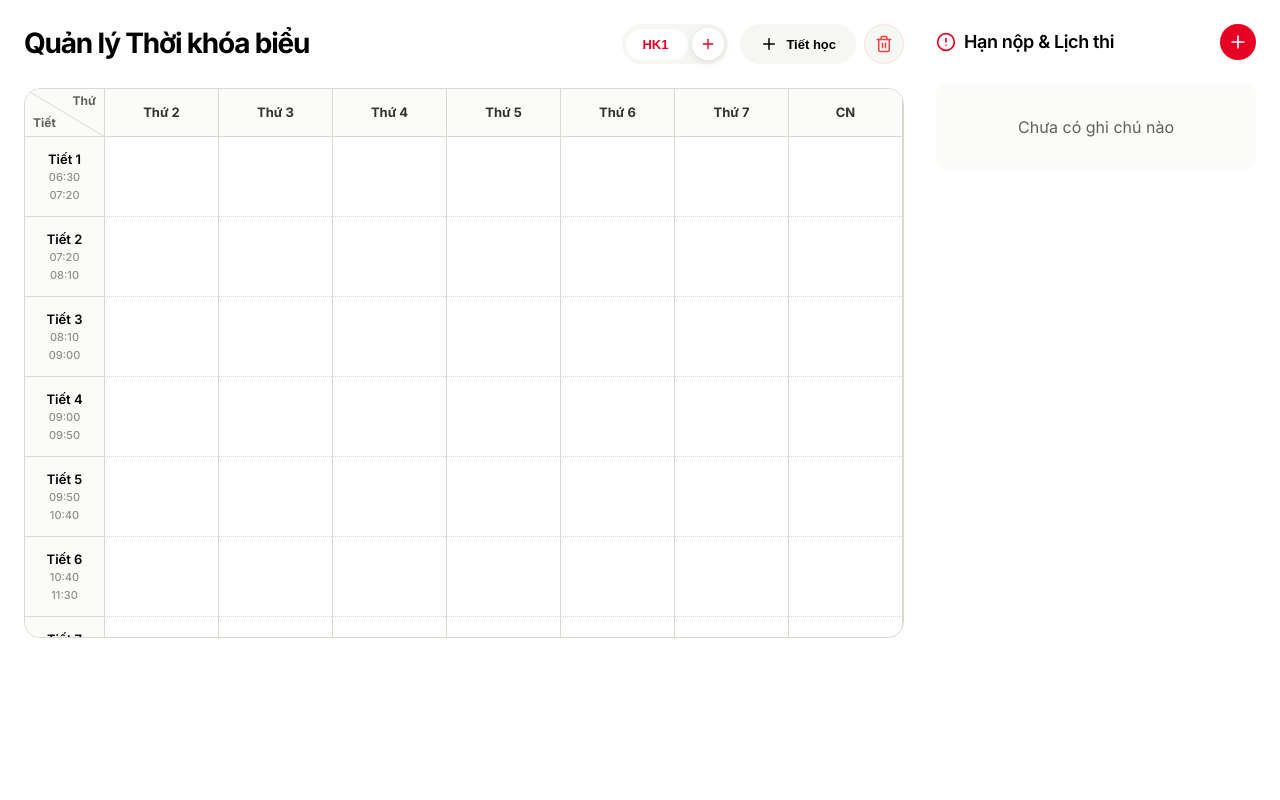
Test case: Timetable — entry & schedule CRUD › open_entry_modal_via_header_Tiết_học_and_Hủy_closes
Expected: the heading "Quản lý Thời khóa biểu" is shown, [24,27,309,61]
Click the button "Tiết học" at (798, 44), box [740,24,856,64]
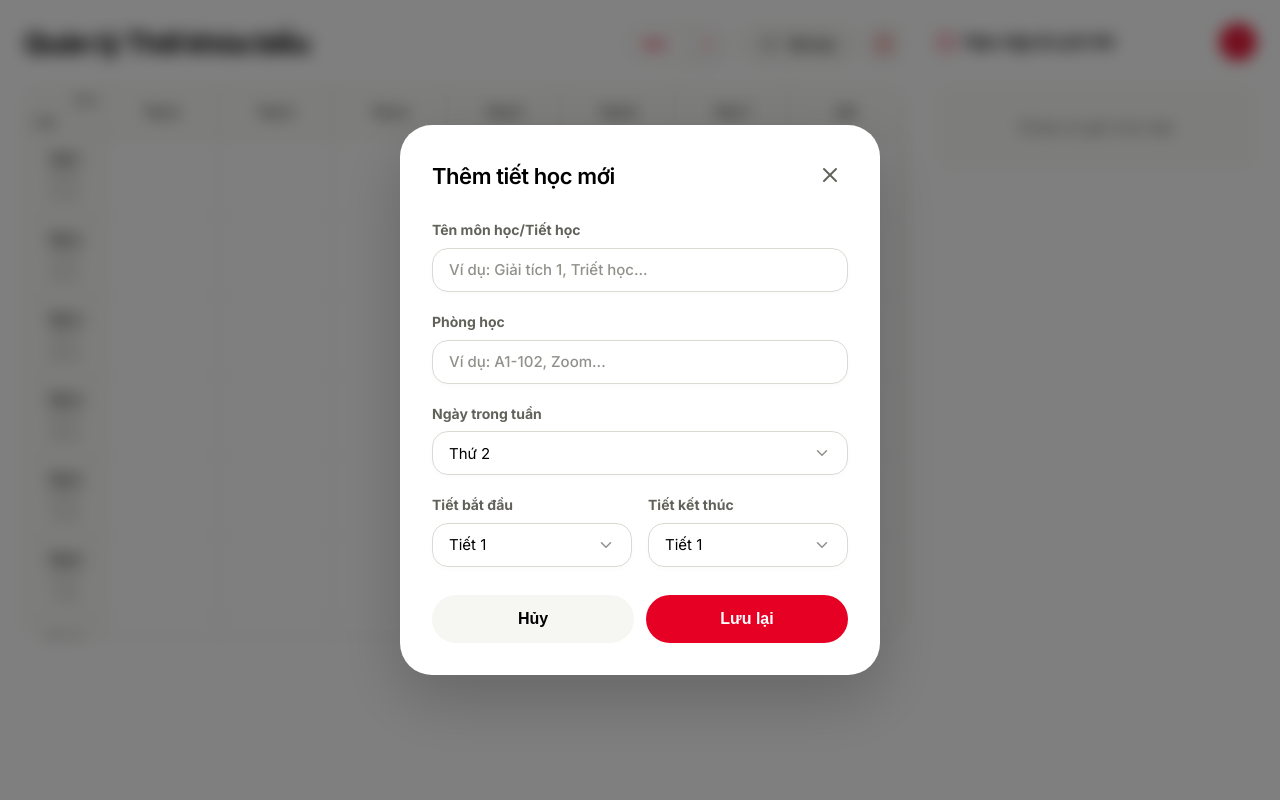
Expected: the heading "Thêm tiết học mới" is shown, [432,163,615,191]
Click the button "Hủy" at (533, 619), box [432,595,634,643]
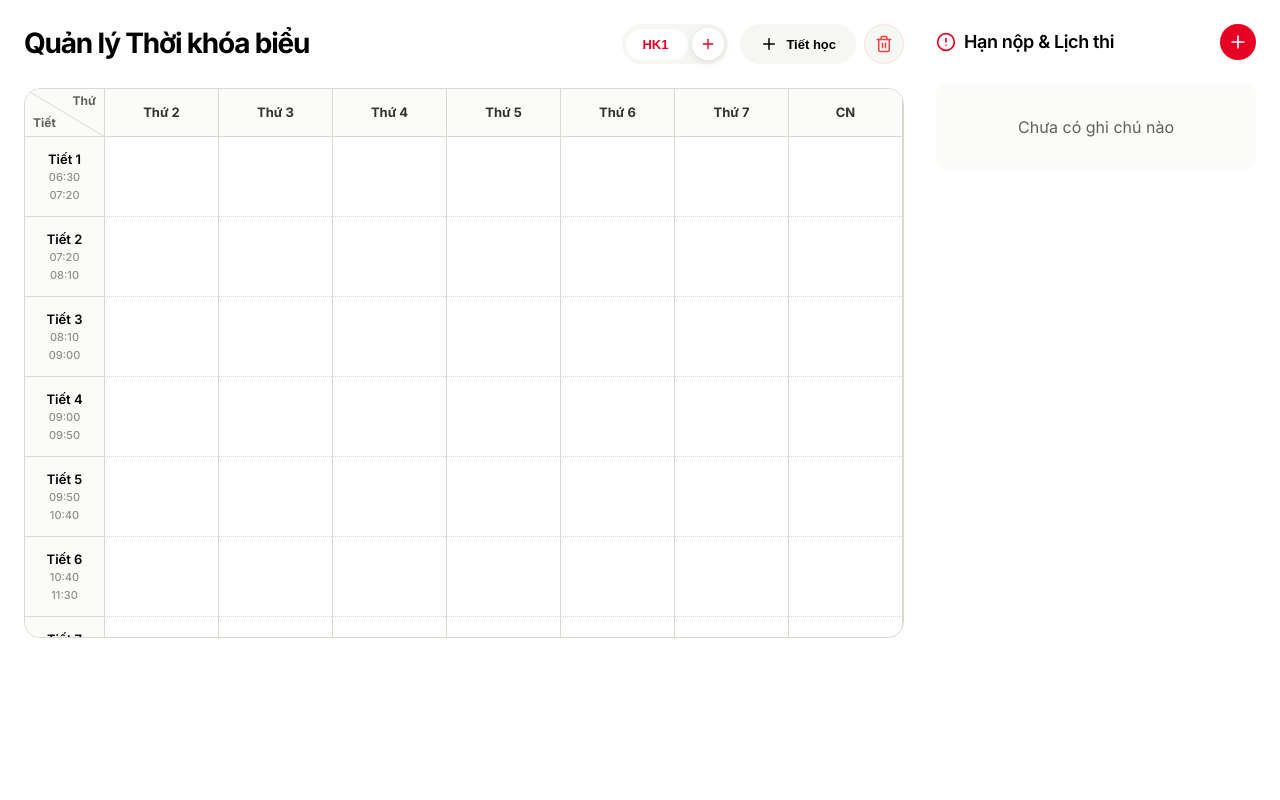
Expected: the heading "Thêm tiết học mới" is gone
